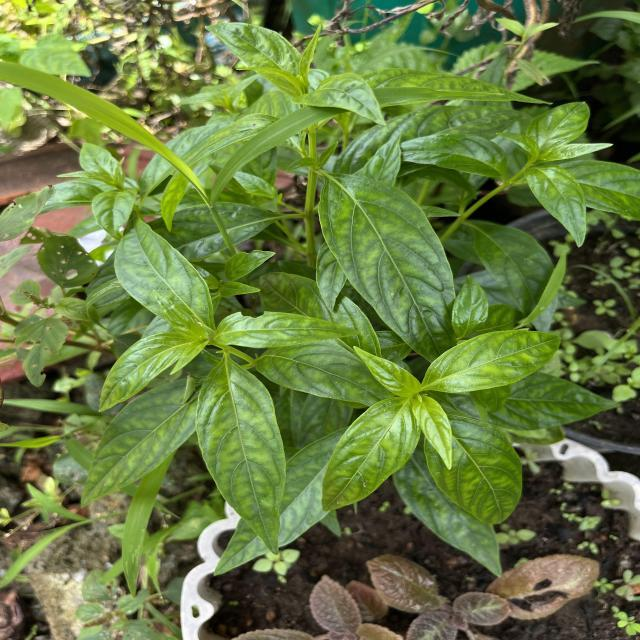Andrographis paniculata: (316, 174, 458, 356), (194, 357, 287, 557), (78, 376, 194, 511), (113, 209, 215, 333), (319, 394, 422, 512), (422, 416, 524, 526), (469, 220, 558, 334), (422, 329, 566, 394), (97, 330, 193, 413), (215, 308, 362, 349), (523, 166, 589, 250), (351, 344, 423, 396), (524, 98, 592, 148), (410, 396, 455, 470)
